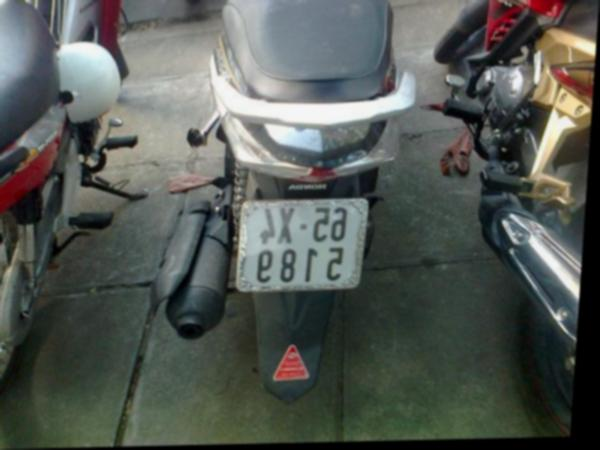License_Plate: (236, 198, 366, 294)
